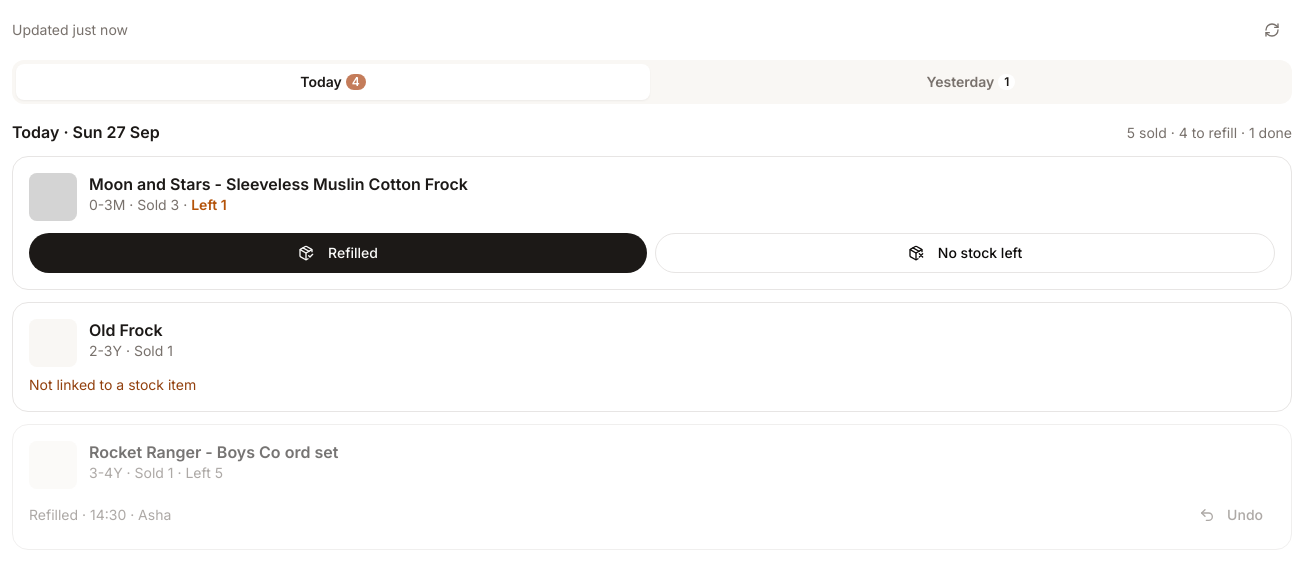
Scenario: stall refills list › shows today and yesterday with photo, sold and left
expect the heading "Today · Sun 27 Sep" is shown: met, box [12, 120, 160, 144]
expect the text "5 sold · 4 to refill · 1 done" is shown: met, box [1127, 123, 1292, 143]
Step 1. Click the tab "Yesterday 1" → (971, 82), box [654, 64, 1288, 100]
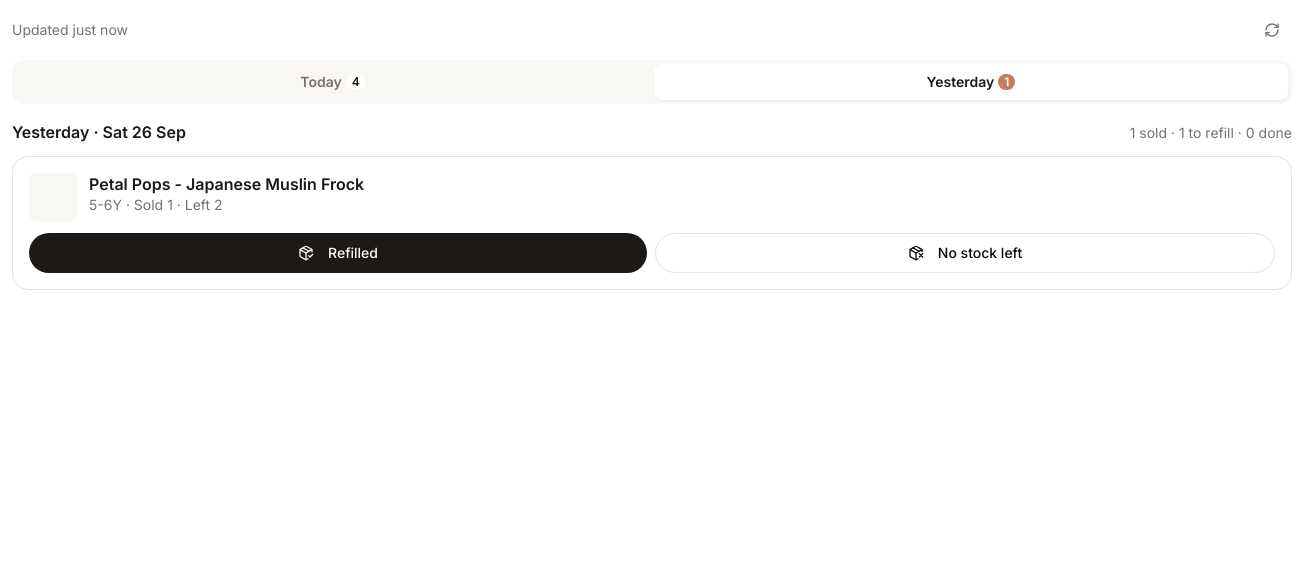
expect the heading "Yesterday · Sat 26 Sep" is shown: met, box [12, 120, 186, 144]
expect the text "Petal Pops - Japanese Muslin Frock" is shown: met, box [89, 173, 364, 195]
